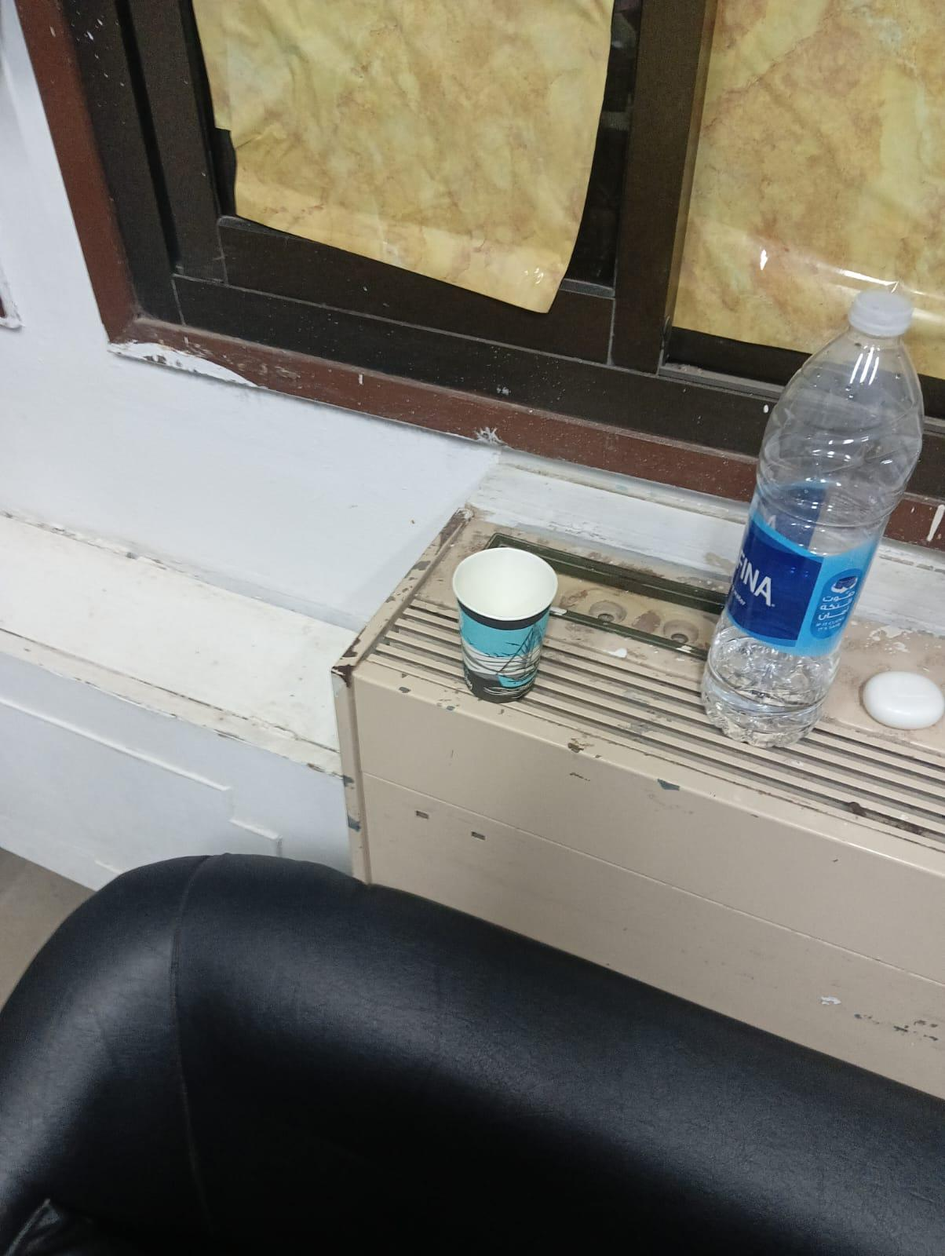cup: (453, 548, 557, 701), (468, 563, 541, 619)
